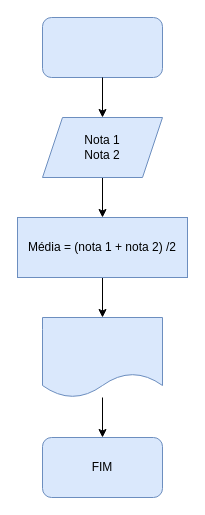
Some shapes in this 205 by 515 pixel diagram are drawn without their labels. The centre of each missing label's shape, as x and y in pixels:
"Média =", media: (102,357)
INÍCIO: (102,47)
